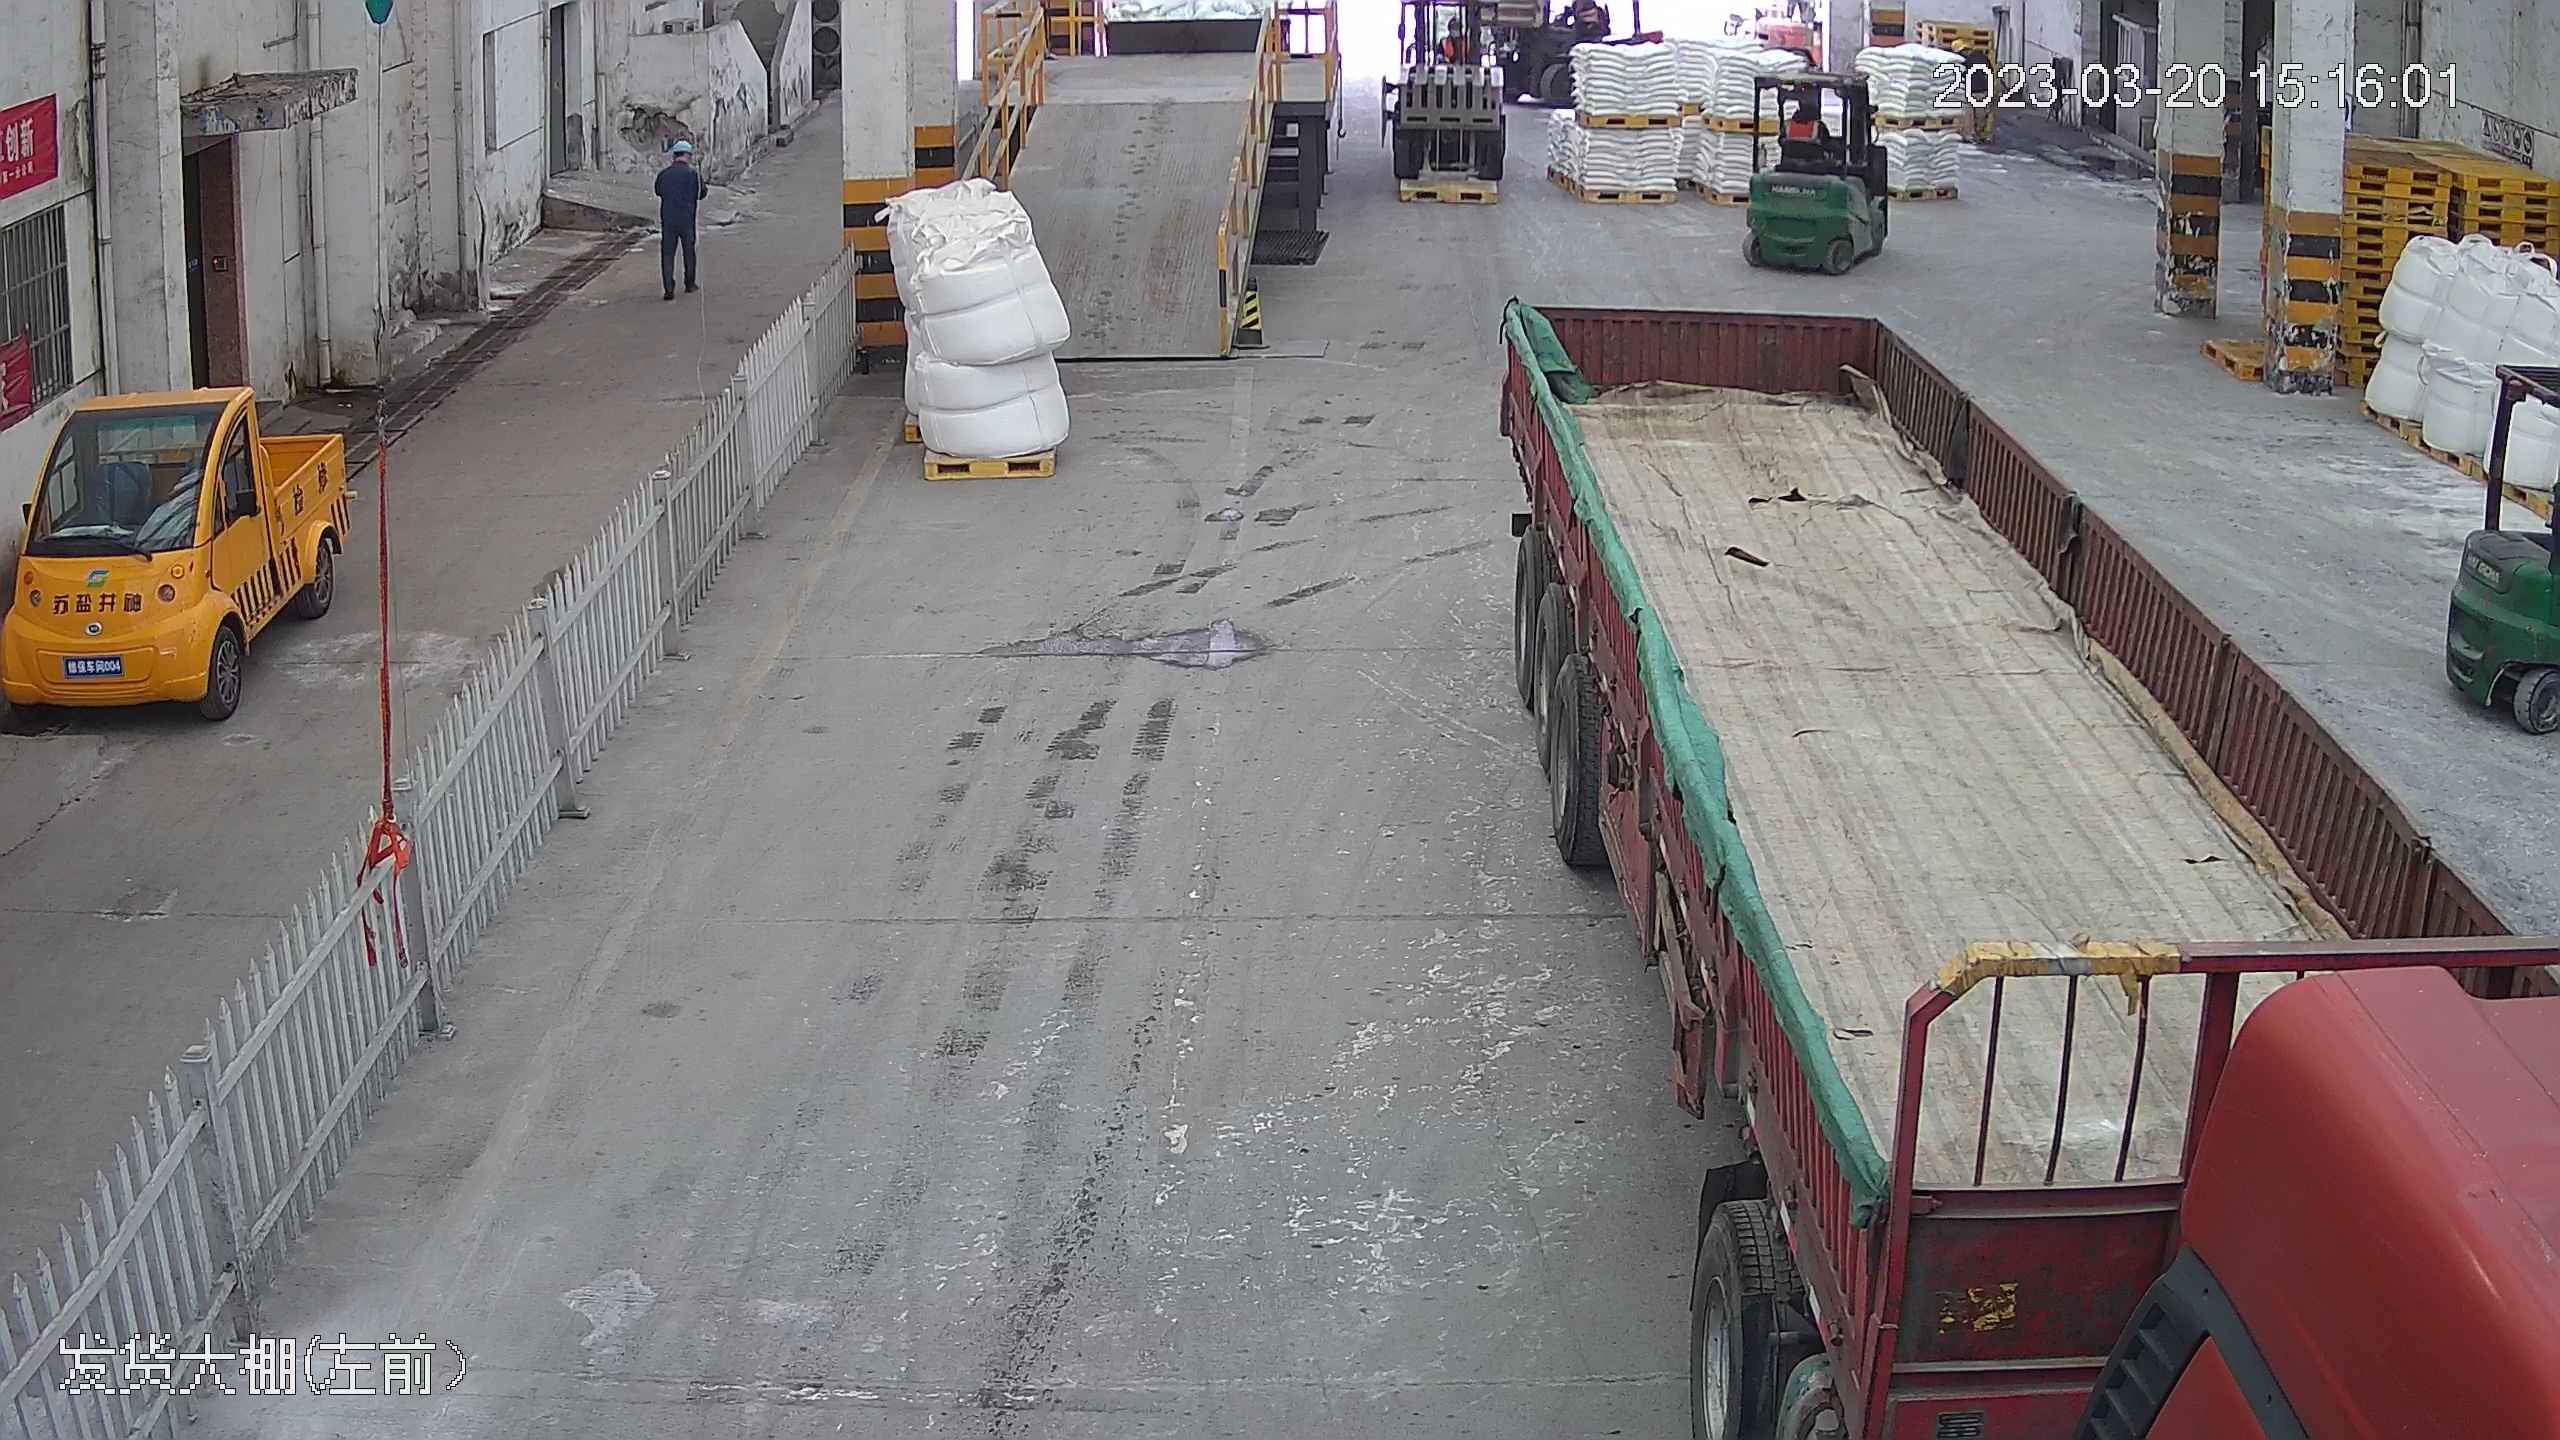head: (657, 137, 703, 189)
helmet: (666, 138, 693, 163)
people: (650, 136, 710, 301)
truck: (1486, 257, 2560, 1428)
